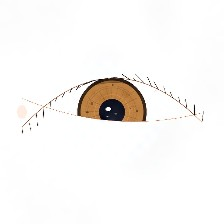pinguecula_lesion: (141, 99, 185, 134)
